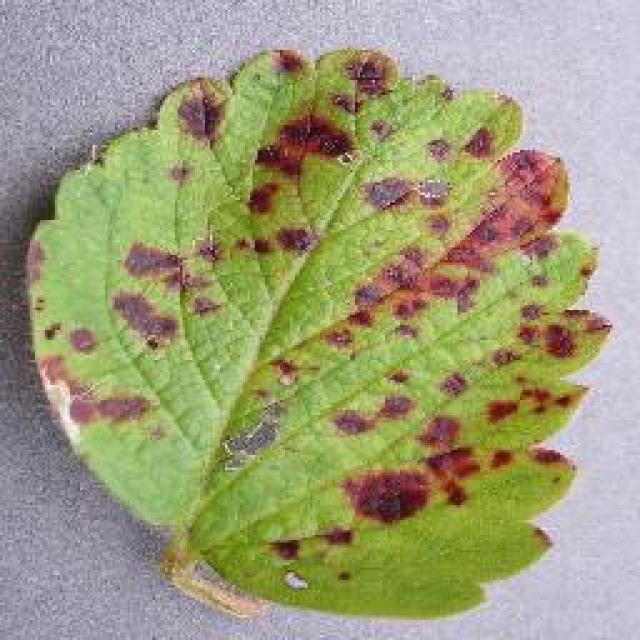Strawberry leaf scorch: (41, 33, 552, 520)
